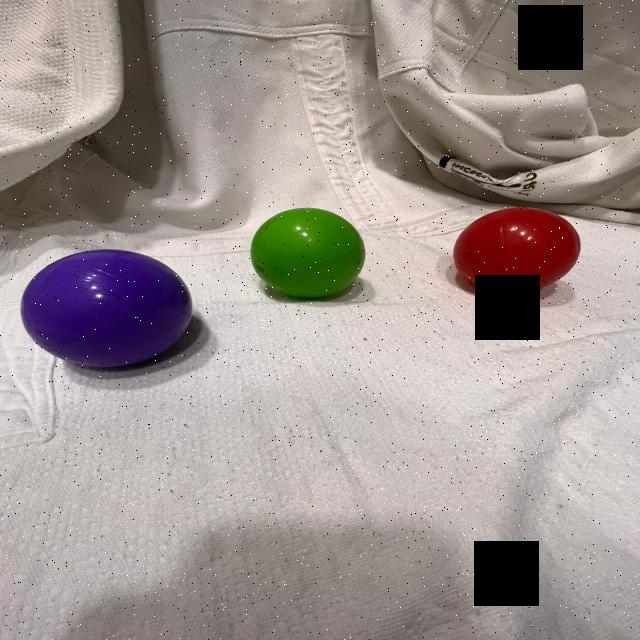ball: (17, 247, 196, 372), (450, 204, 585, 296), (245, 207, 368, 300)
